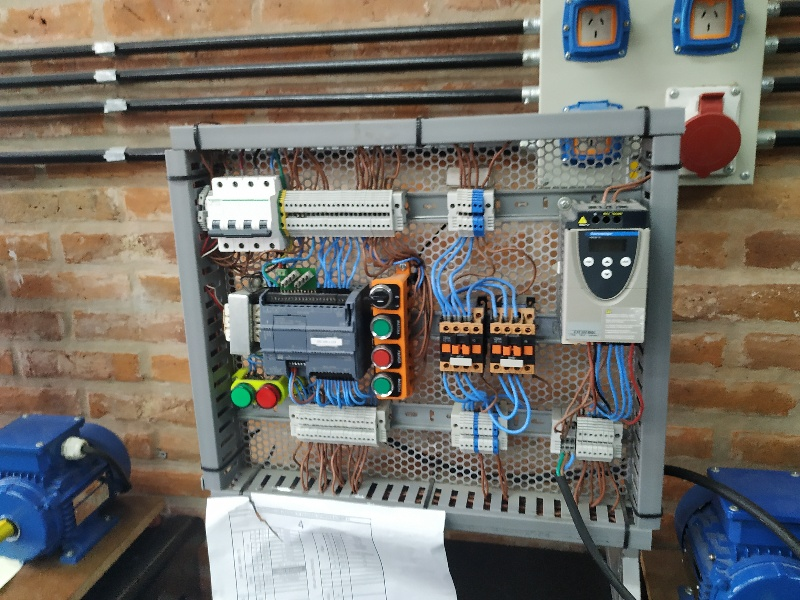Tablero 4: (177, 137, 657, 537)
